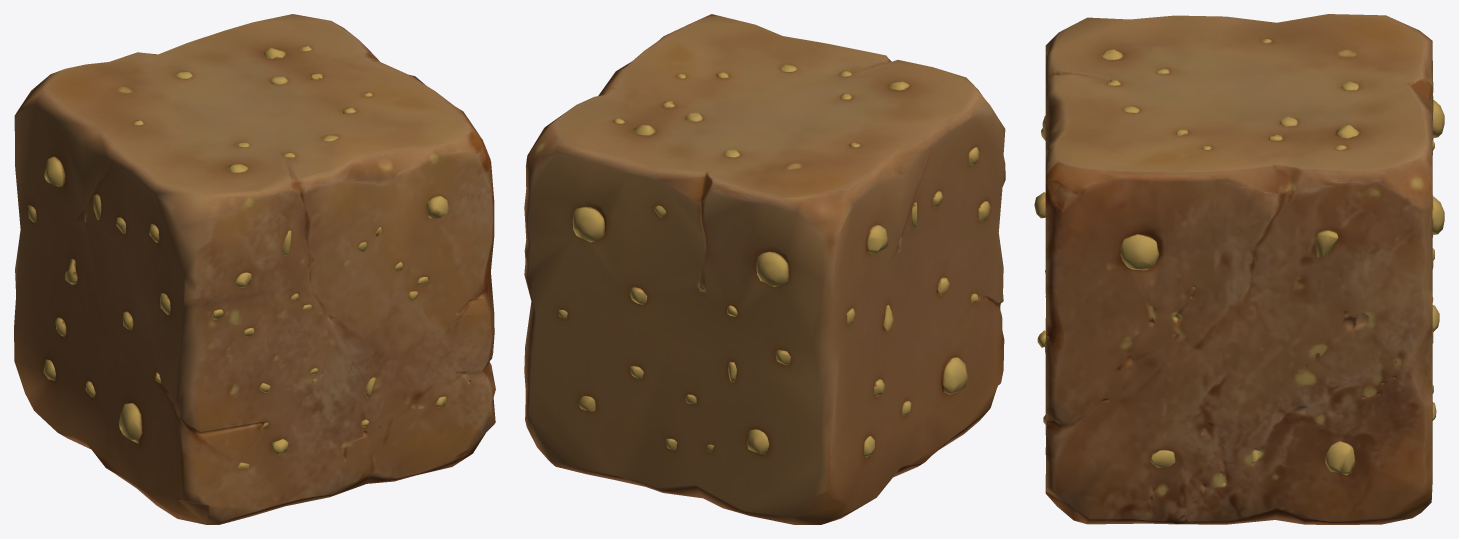
File: original_glb.glb
3 renders of one model, left to right at view 1: azimuth 30°, elevation 25°; view 2: azimuth 150°, elevation 25°; view 3: azimuth 270°, elevation 25°, orthographic. The views are drawn at different scales.
Parts seen in each view (by area): view 1: tile-256-gold-ore; view 2: tile-256-gold-ore; view 3: tile-256-gold-ore.
Part boxes in pixels (left/top/right/bottom): tile-256-gold-ore: left=14, top=14, right=495, bottom=524; tile-256-gold-ore: left=524, top=14, right=1005, bottom=524; tile-256-gold-ore: left=1034, top=14, right=1444, bottom=524.
Size of the model in its own units: 0.998 by 0.9629 by 0.998.
Materials: 1 (1 with a texture image).
